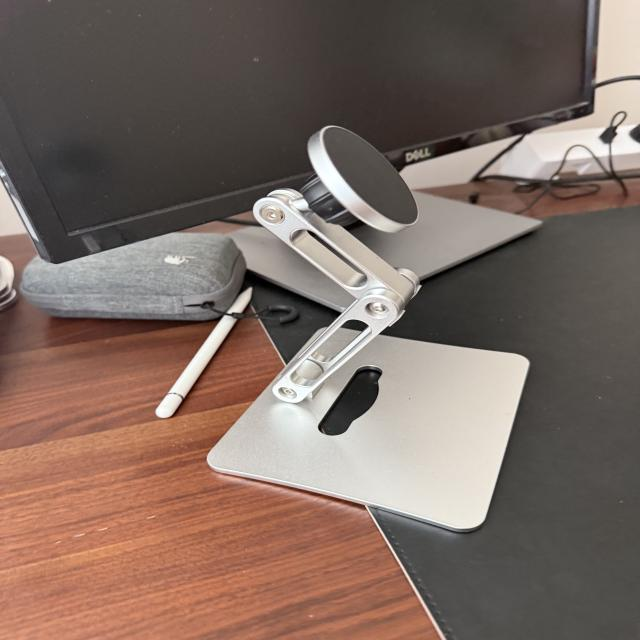phone holder: (196, 113, 554, 538)
